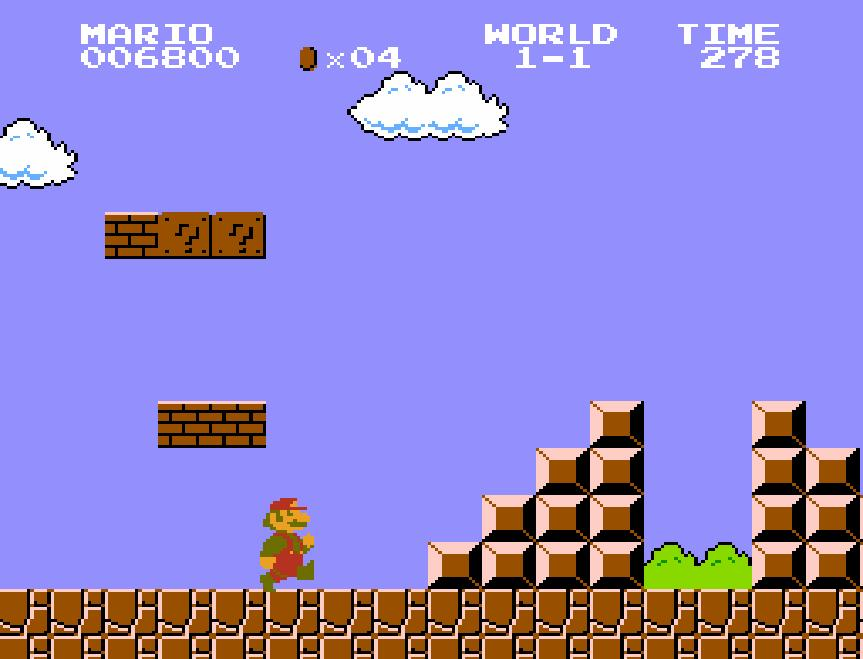big_mario: (257, 499, 315, 597)
